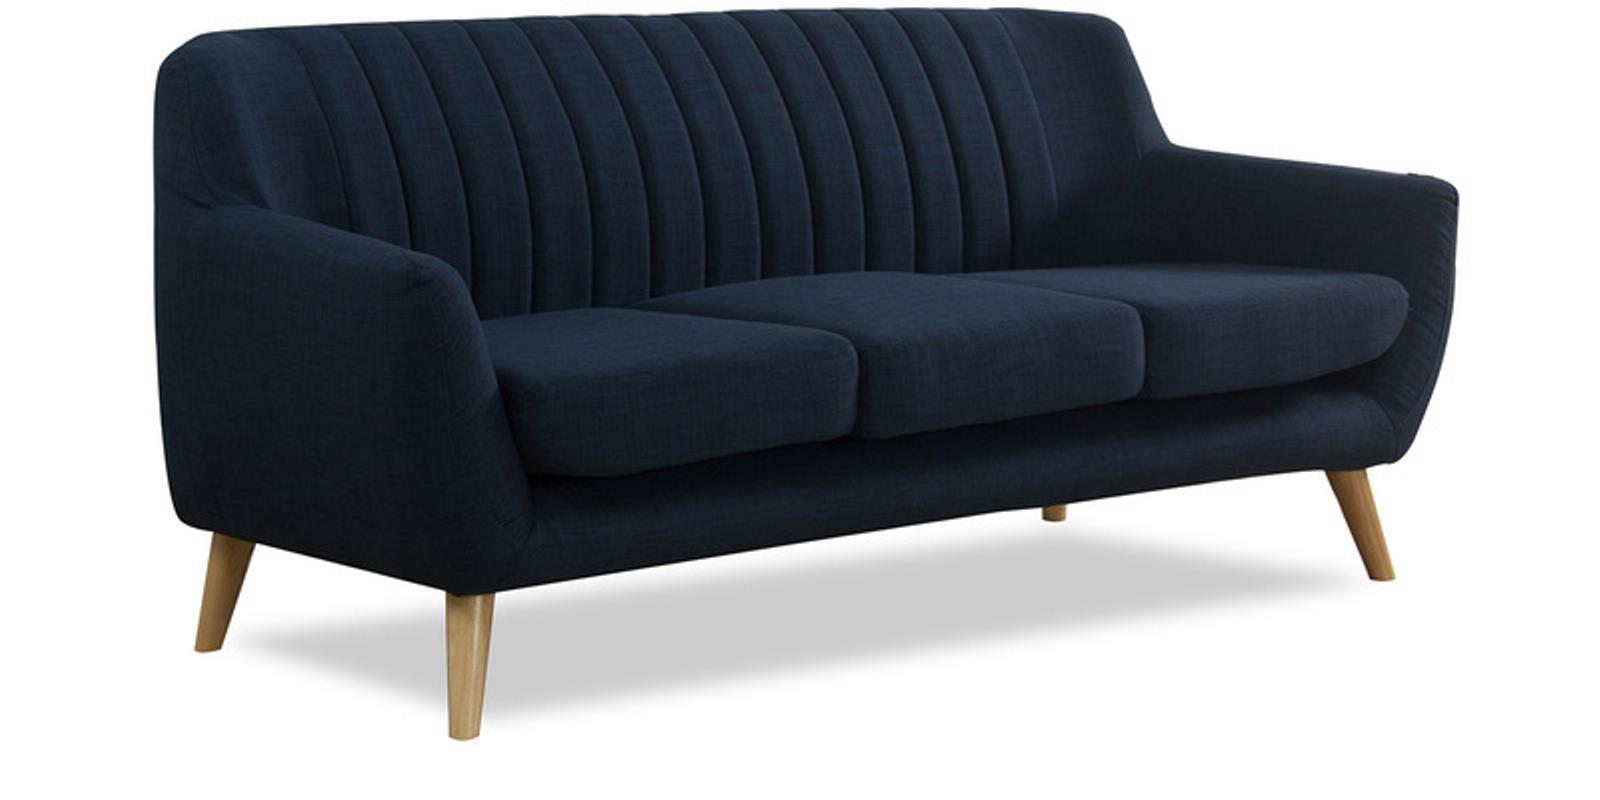Managua Three Seater Sofa in Blue Colour by CasaCraft: (152, 5, 1457, 741)
